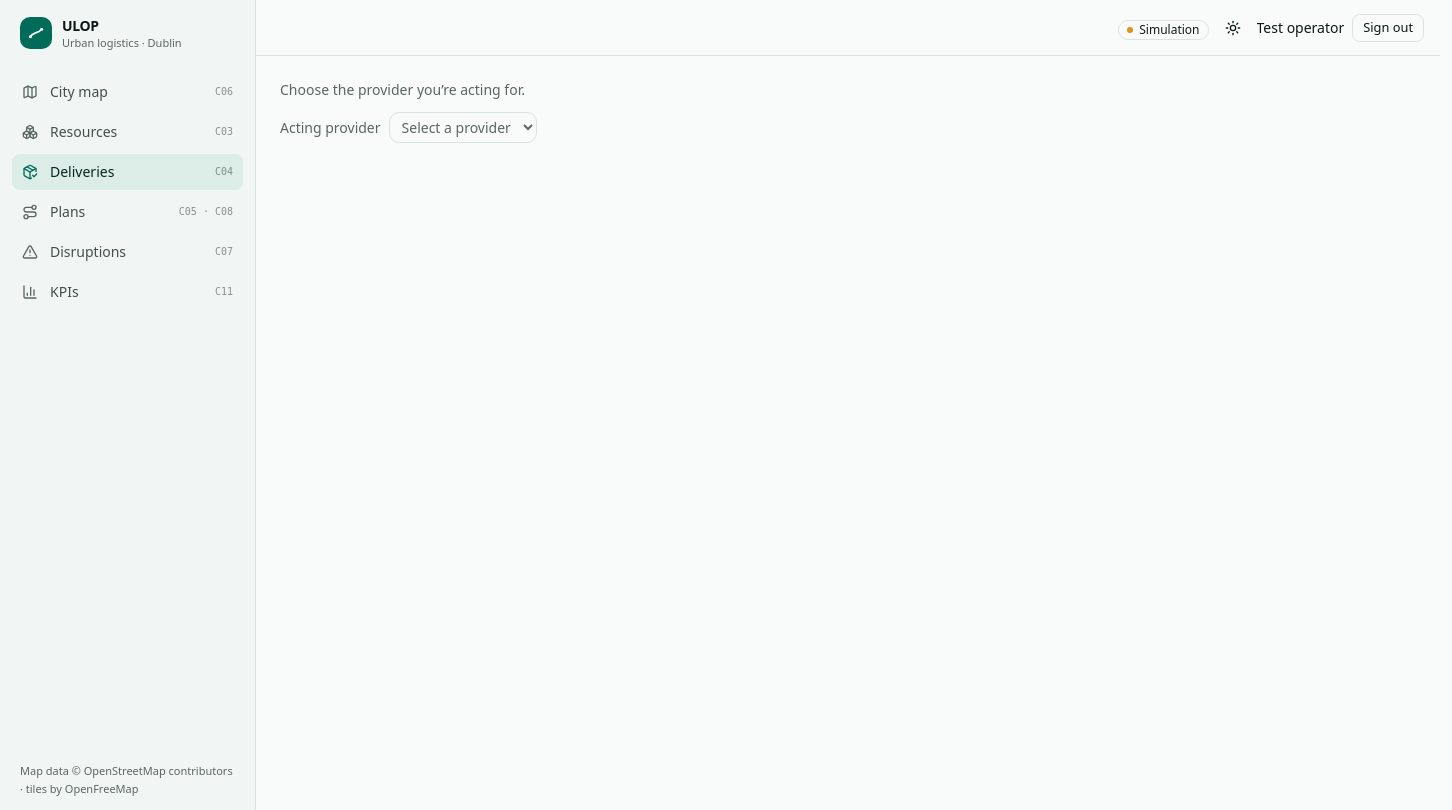
Test: Deliveries page (C01 → C04) › opens only a real proposal with its original submission trace (stub=false)
This screenshot has width=1452, height=810.
Select "Dublin Fleet A" in the dropdown labelled "Acting provider" at [463, 128], box [389,112,537,143]
(page scrolled)
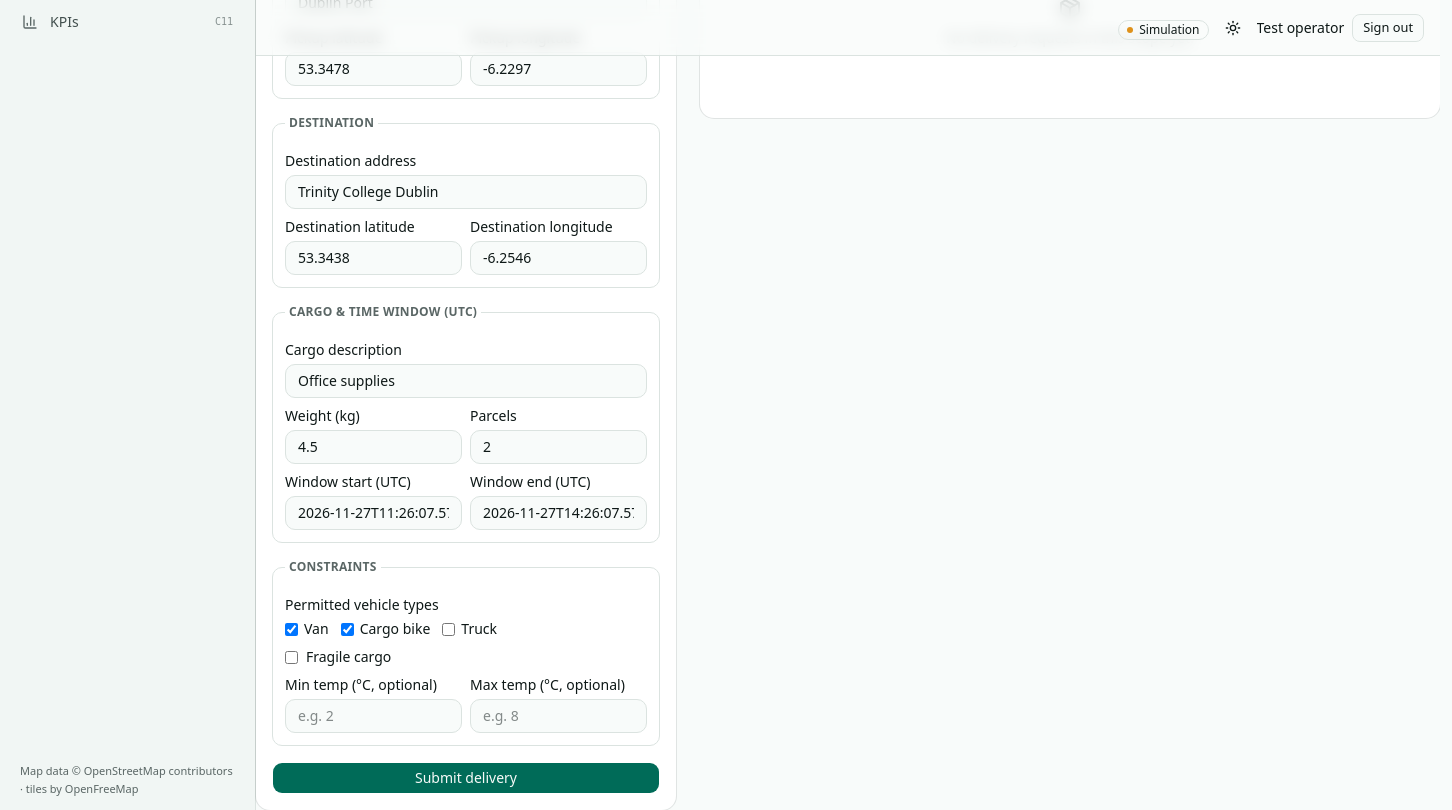
Click the button "Submit delivery".
click(466, 778)  # box [272,762,660,794]
(page scrolled)
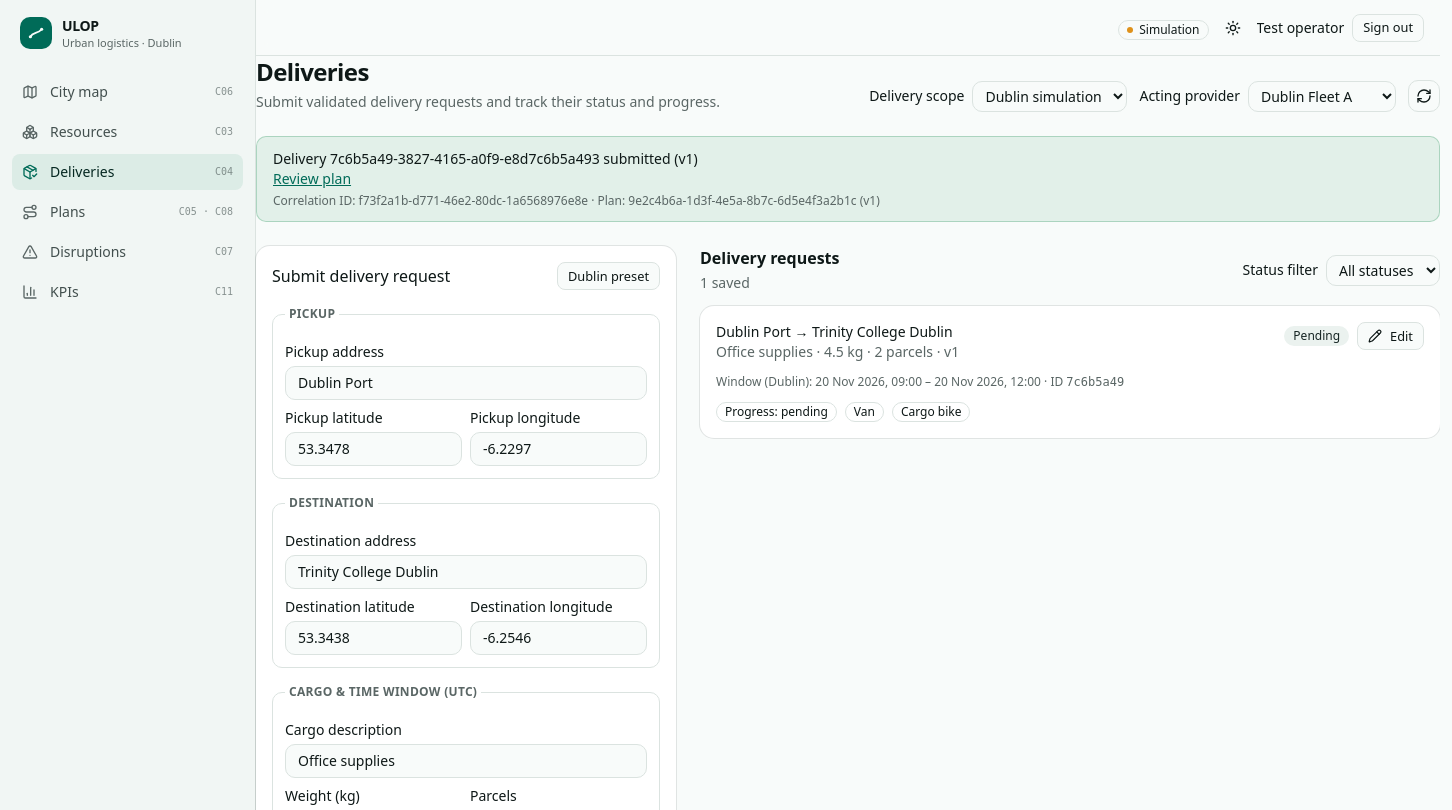
Check: the text "9e2c4b6a-1d3f-4e5a-8b7c-6d5e4f3a2b1c" is shown, box [588,192,880,209]
Check: the text "Dublin Port → Trinity College Dublin" is shown, box [716,322,959,342]
Click the link "Review plan".
click(312, 178)  # box [273,169,351,188]
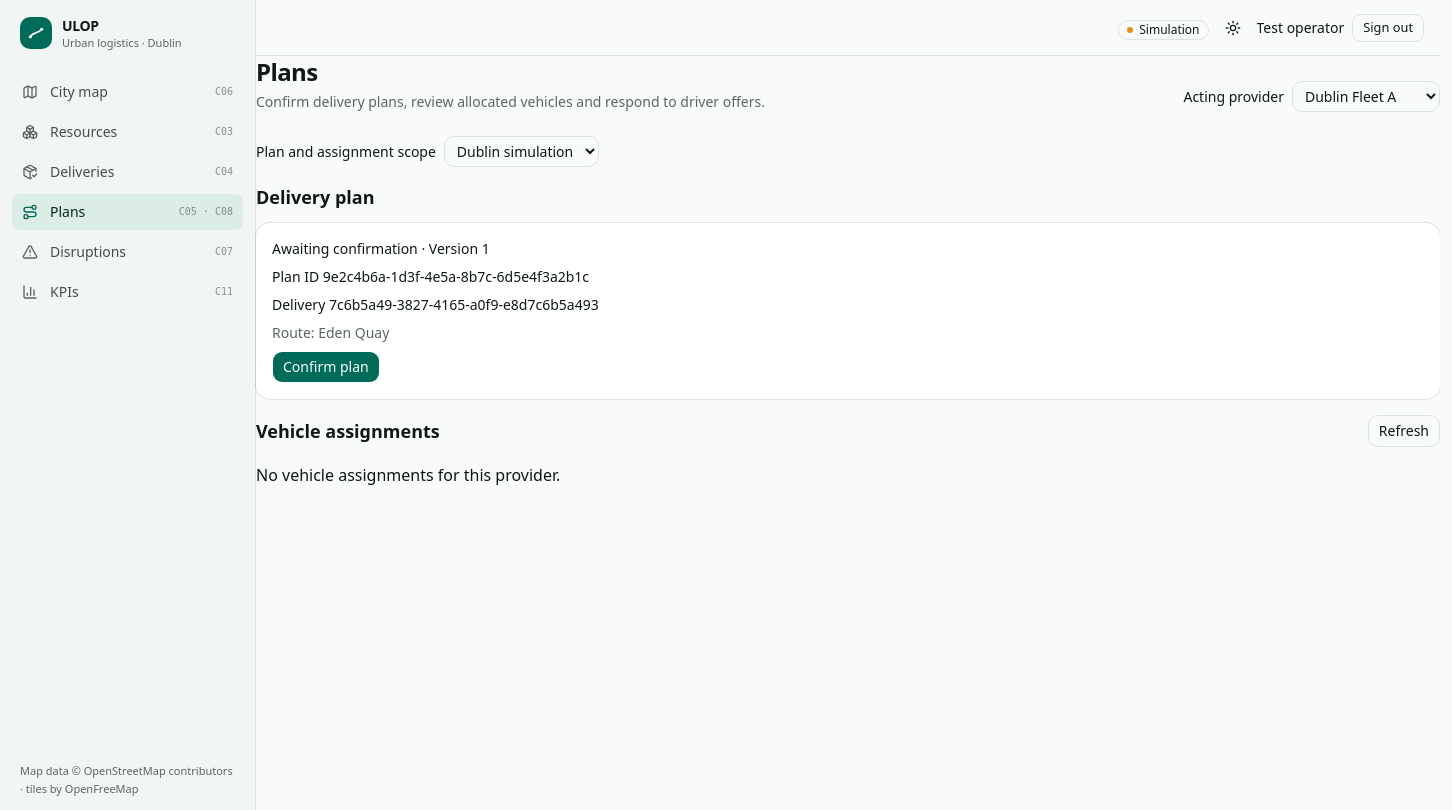
Check: the button "Confirm plan" is shown, box [272,351,380,383]
